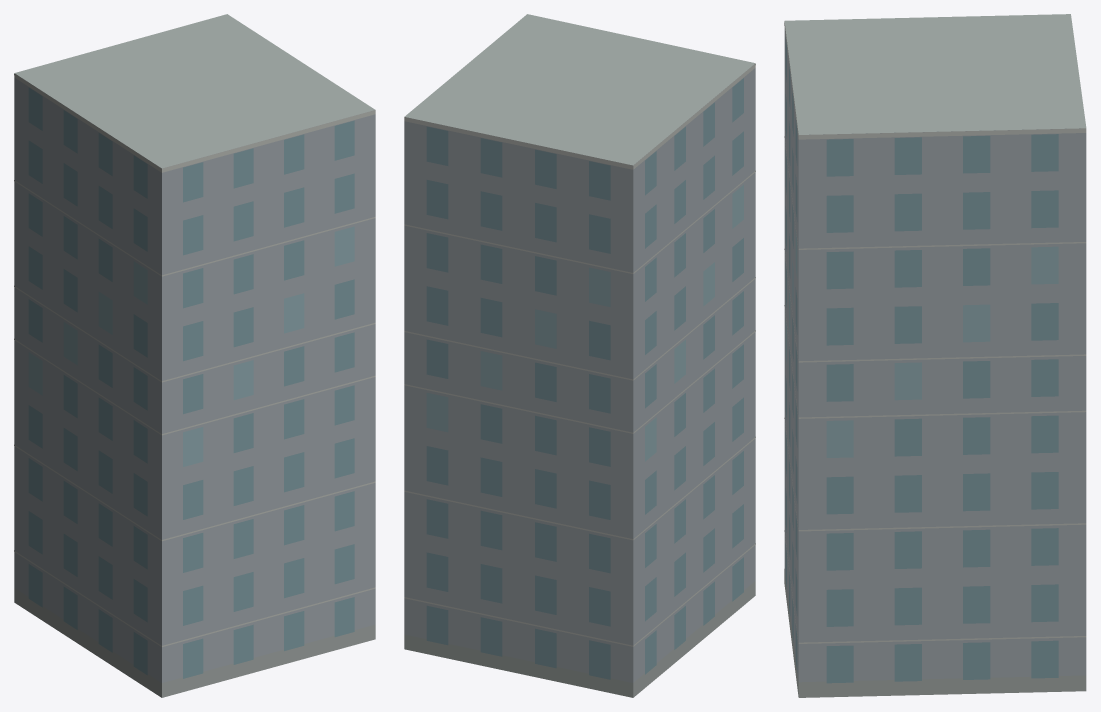
File: survey-upis-32677219.glb
3 renders of one model, left to right at view 1: azimuth 30°, elevation 25°; view 2: azimuth 150°, elevation 25°; view 3: azimuth 270°, elevation 25°, orthographic. The views are drawn at different scales.
Parts seen in each view (by area): view 1: survey-upis-32677219.tmp; view 2: survey-upis-32677219.tmp; view 3: survey-upis-32677219.tmp.
Boxes of the visible parts, x1,y1,x2,y2 form: survey-upis-32677219.tmp: (14, 14, 375, 697); survey-upis-32677219.tmp: (404, 14, 755, 697); survey-upis-32677219.tmp: (784, 14, 1086, 697).
Bounding box in the file's own units: 13.74 × 29.73 × 14.48.
